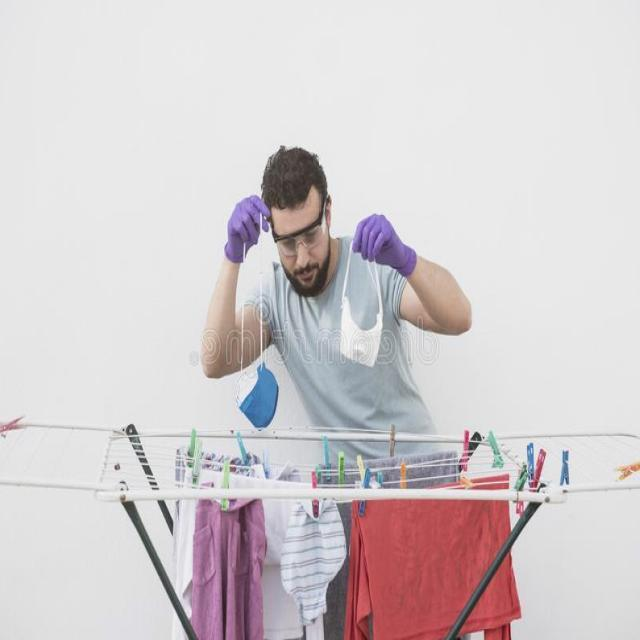clothes: (163, 513, 510, 635)
